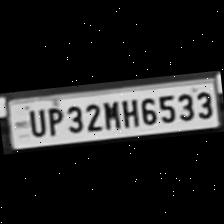2: (81, 98, 103, 132)
3: (192, 87, 215, 120), (63, 100, 84, 134), (174, 89, 195, 122)
5: (154, 90, 176, 124)
6: (136, 93, 156, 126)
H: (118, 94, 140, 128)
M: (100, 96, 120, 130)
P: (43, 102, 64, 136)
U: (23, 104, 46, 138)
